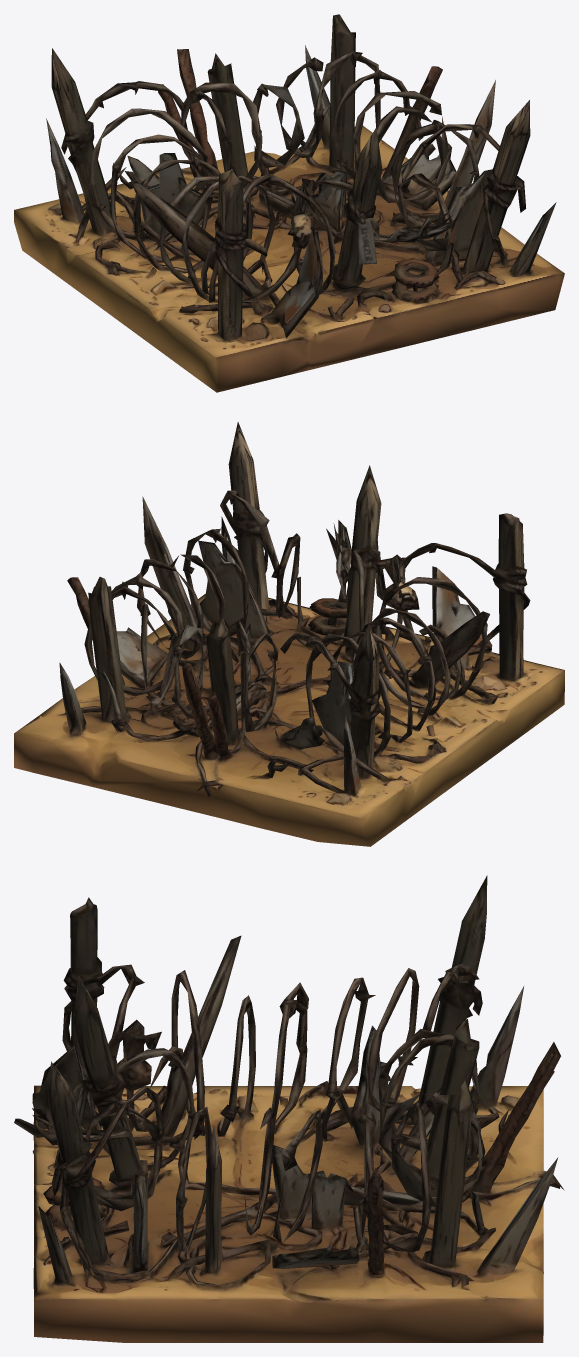
File: puas.glb
3 views of the same model, one above another, from view 1: azimuth 30°, elevation 25°; view 2: azimuth 150°, elevation 25°; view 3: azimuth 270°, elevation 25° (orthographic). The views are drawn at different scales.
Parts seen in each view (by area): view 1: tripo_node_dcf84611-52df-4d29-8c29-bfab69a63308; view 2: tripo_node_dcf84611-52df-4d29-8c29-bfab69a63308; view 3: tripo_node_dcf84611-52df-4d29-8c29-bfab69a63308.
Part boxes in pixels (x1,y1,x2,y2): tripo_node_dcf84611-52df-4d29-8c29-bfab69a63308: (14, 14, 564, 392); tripo_node_dcf84611-52df-4d29-8c29-bfab69a63308: (14, 422, 564, 846); tripo_node_dcf84611-52df-4d29-8c29-bfab69a63308: (14, 875, 564, 1342).
Bounding box in the file's own units: 0.9598 × 0.5303 × 1.
1 material, 1 textured.
